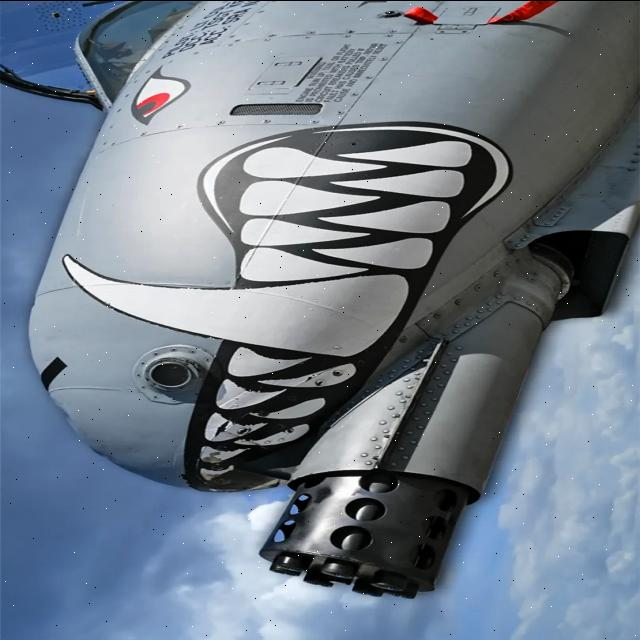A10: (24, 0, 640, 610)
